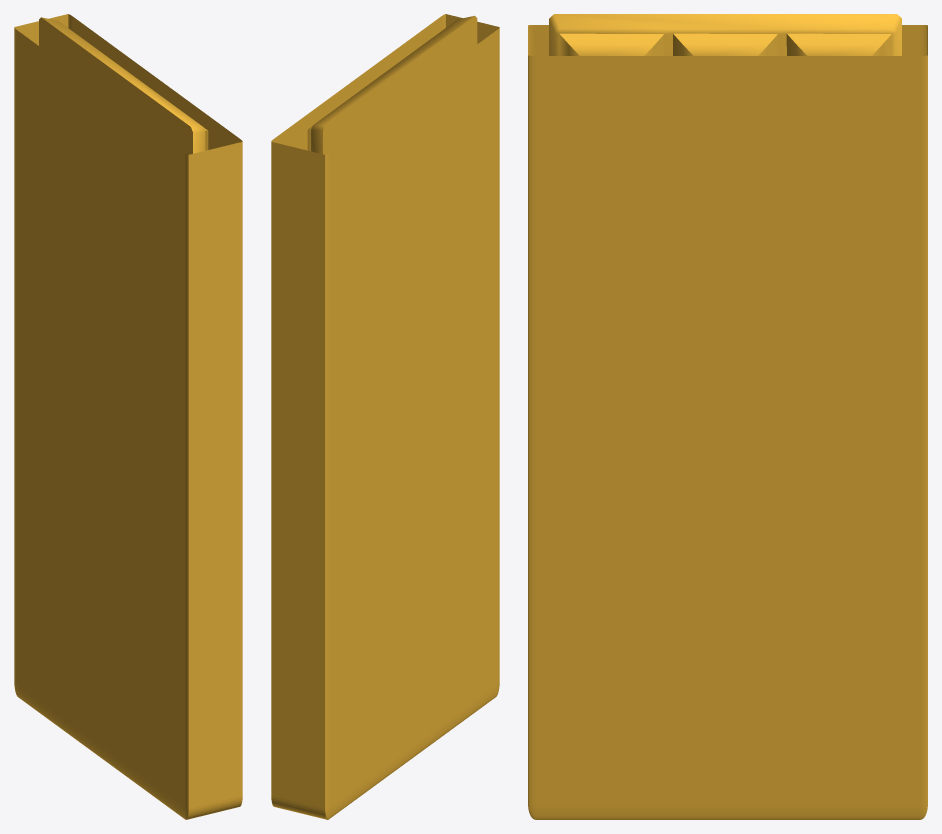
File: ticket.glb
The picture shows the model from 3 angles, left to right: view 1: azimuth 30°, elevation 25°; view 2: azimuth 150°, elevation 25°; view 3: azimuth 270°, elevation 25°; orthographic projection. The views are drawn at different scales.
Parts seen in each view (by area): view 1: Cube, chocolate_fin; view 2: Cube, chocolate_fin; view 3: Cube, chocolate_fin.
Part boxes in pixels (x1,y1,x2,y2): Cube: (14,14,242,819); chocolate_fin: (39,17,208,154); Cube: (271,14,499,819); chocolate_fin: (307,15,477,154); Cube: (528,25,927,819); chocolate_fin: (549,14,901,55).
Size of the model in its own units: 0.1526 by 1.79 by 0.8265.
